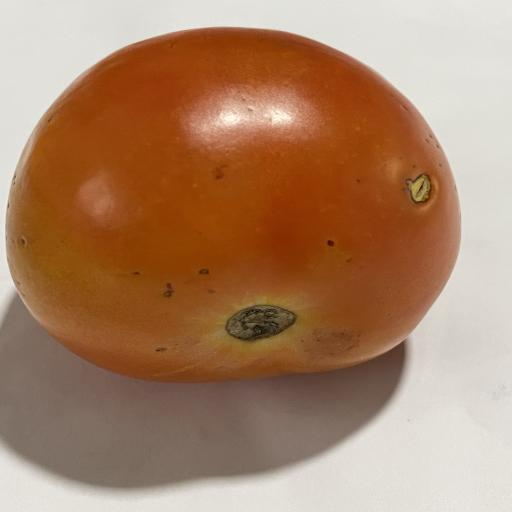unripe: (6, 28, 460, 382)
